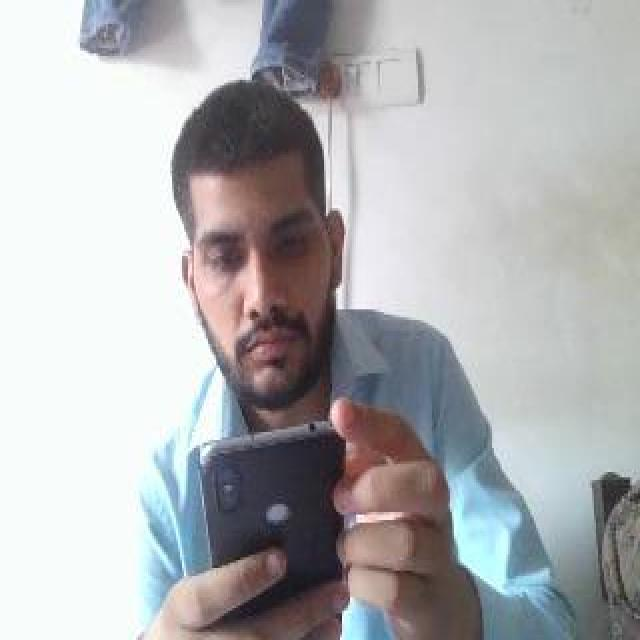phone: (200, 421, 351, 636)
